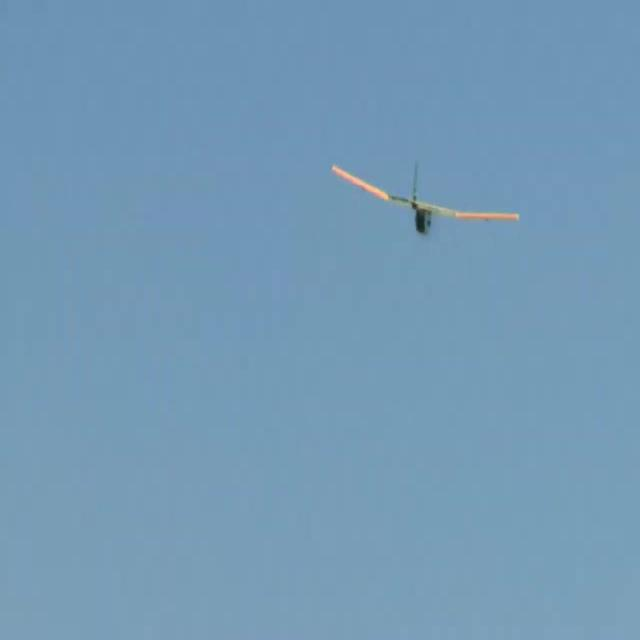iha: (331, 186, 519, 199)
